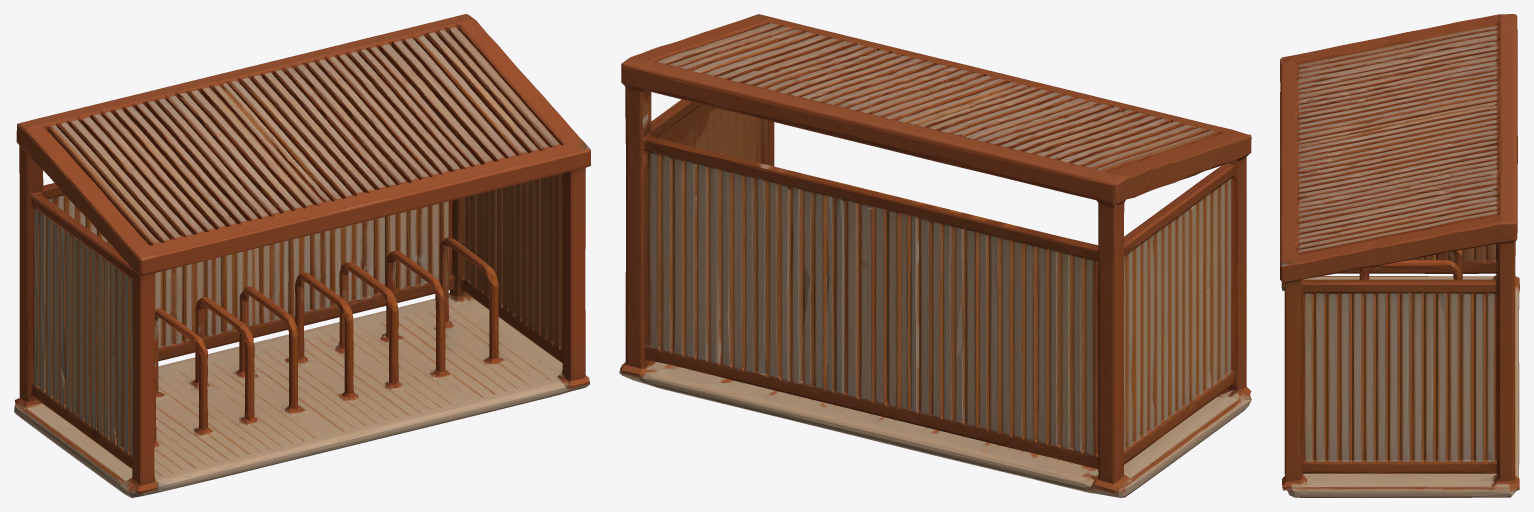
Rendered from room-01-bike-canopy.glb.
The picture shows the model from 3 angles, left to right: view 1: azimuth 30°, elevation 25°; view 2: azimuth 150°, elevation 25°; view 3: azimuth 270°, elevation 25°; orthographic projection. The views are drawn at different scales.
Visible parts, largest first — view 1: textured_mesh.obj; view 2: textured_mesh.obj; view 3: textured_mesh.obj.
Boxes of the visible parts, left/top/right/bottom form: textured_mesh.obj: left=14, top=14, right=590, bottom=497; textured_mesh.obj: left=619, top=14, right=1251, bottom=497; textured_mesh.obj: left=1280, top=14, right=1519, bottom=497.
Size of the model in its own units: 4.33 by 2.6 by 2.05.
1 material, 1 textured.
